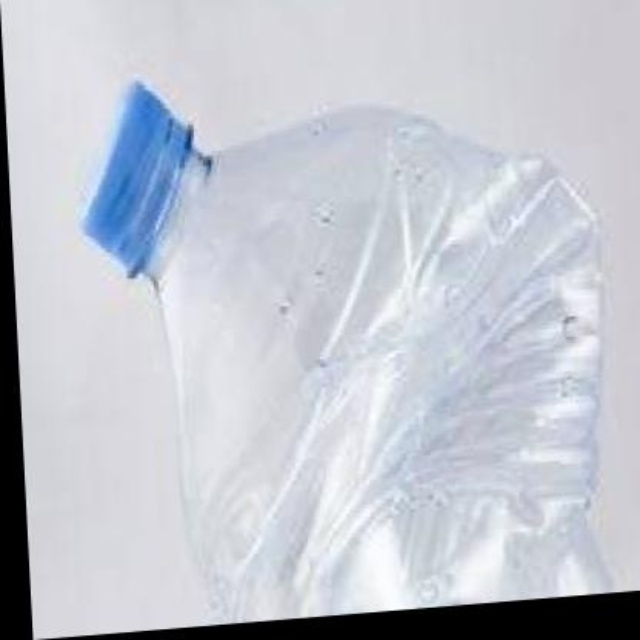trash: (83, 83, 608, 620), (83, 82, 192, 275)
